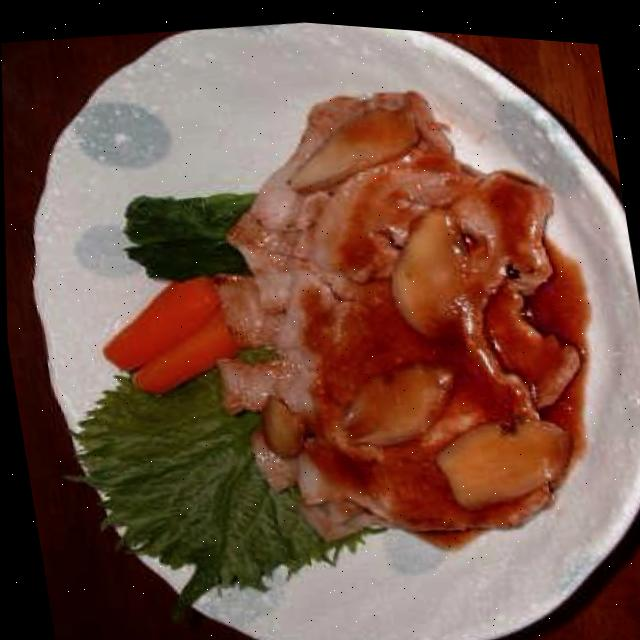猪肉菜式: (181, 50, 595, 581)
